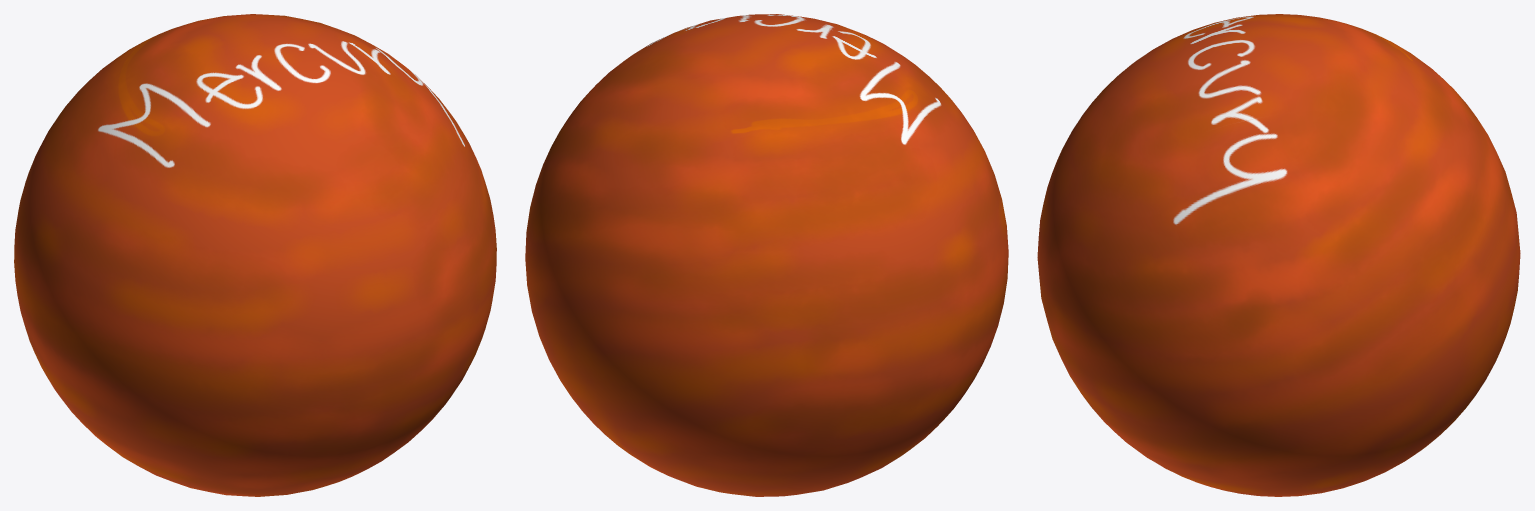
File: mercury.gltf
3 renders of one model, left to right at view 1: azimuth 30°, elevation 25°; view 2: azimuth 150°, elevation 25°; view 3: azimuth 270°, elevation 25°, orthographic.
Visible parts, largest first — view 1: mesh_id30; view 2: mesh_id30; view 3: mesh_id30.
Part boxes in pixels (<box>): mesh_id30: <box>14,14,496,496</box>; mesh_id30: <box>525,14,1008,496</box>; mesh_id30: <box>1037,14,1520,496</box>.
Size of the model in its own units: 0.4974 by 0.4978 by 0.4984.
1 material, 1 textured.
